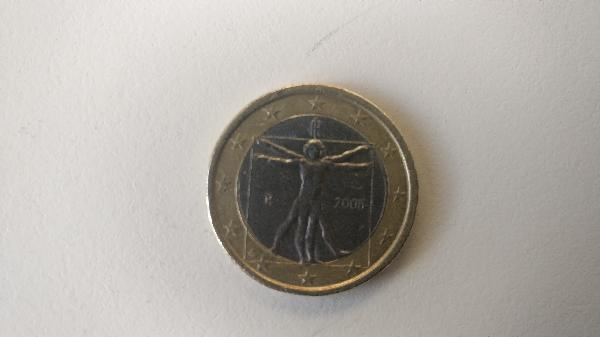One Euro: (206, 84, 424, 298)
